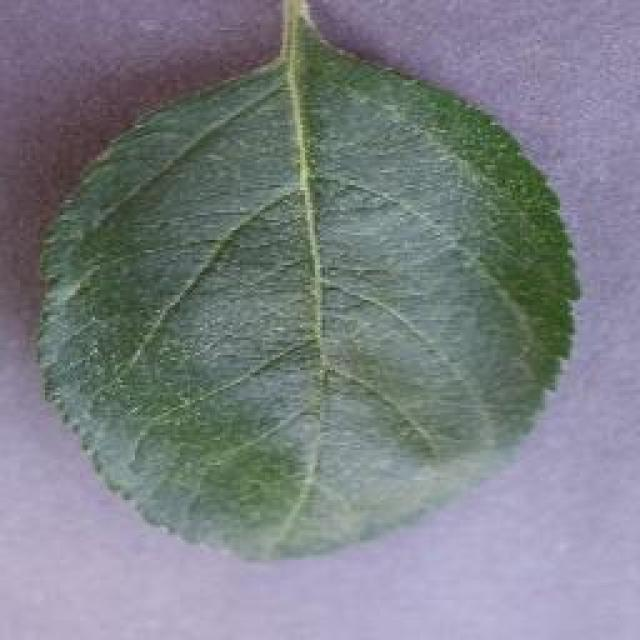apple healthy: (32, 0, 582, 562)
